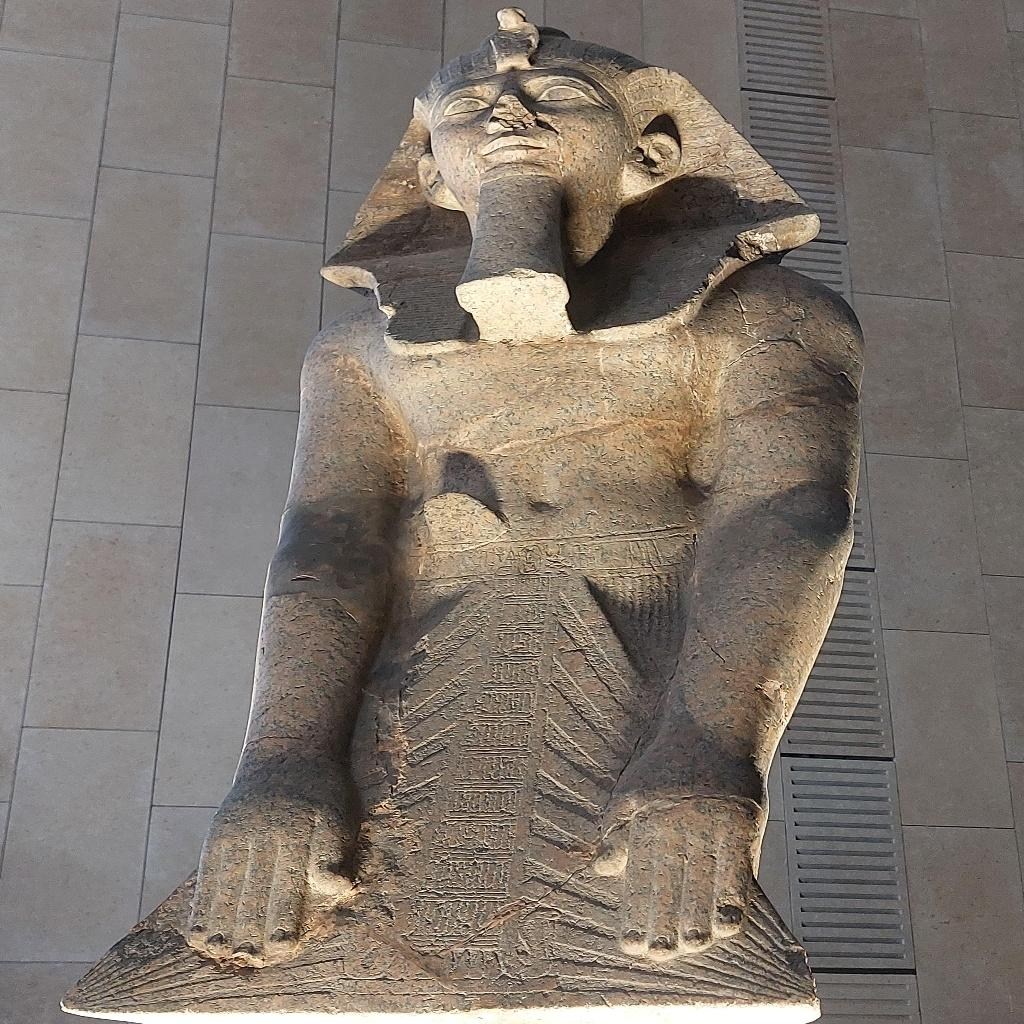Colossal Statue of Queen Hatshepsut: (59, 7, 871, 1018)
